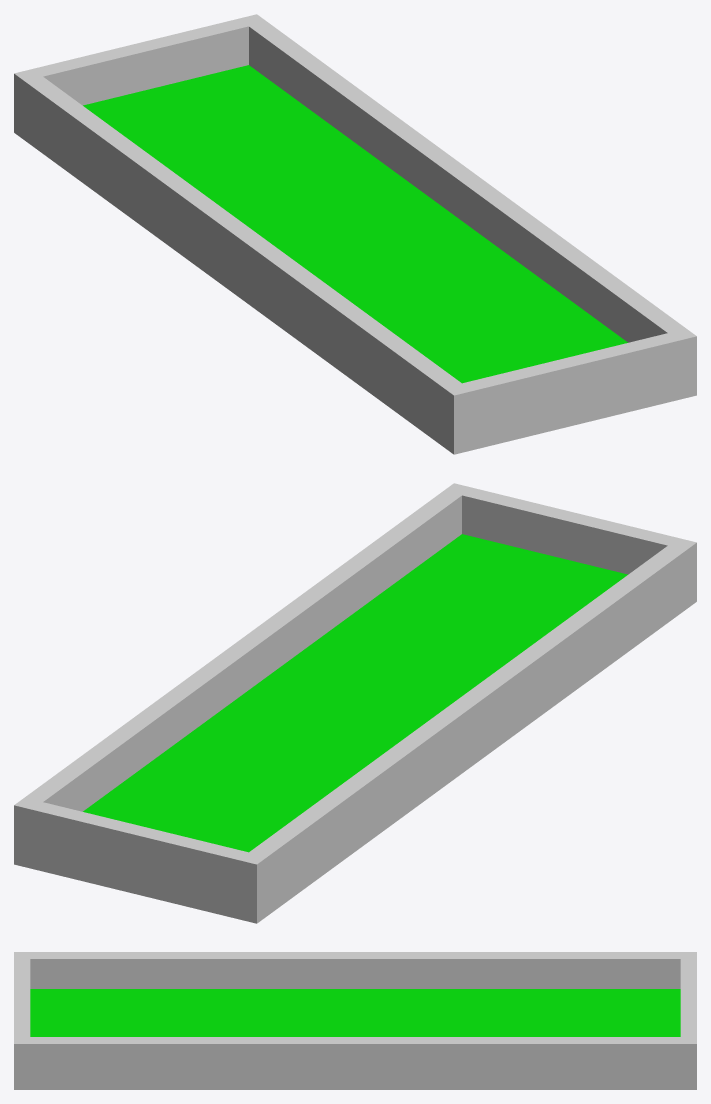
File: acid_pool.dae
3 renders of one model, top to bottom at view 1: azimuth 30°, elevation 25°; view 2: azimuth 150°, elevation 25°; view 3: azimuth 270°, elevation 25°, orthographic. The views are drawn at different scales.
Parts seen in each view (by area): view 1: Acid Pool; view 2: Acid Pool; view 3: Acid Pool.
Part boxes in pixels (box(x1,y1,x2,y2)): Acid Pool: box(14, 14, 696, 454); Acid Pool: box(14, 483, 696, 923); Acid Pool: box(14, 952, 696, 1089).
Bounding box in the file's own units: 3.16 × 9.92 × 0.7363.
